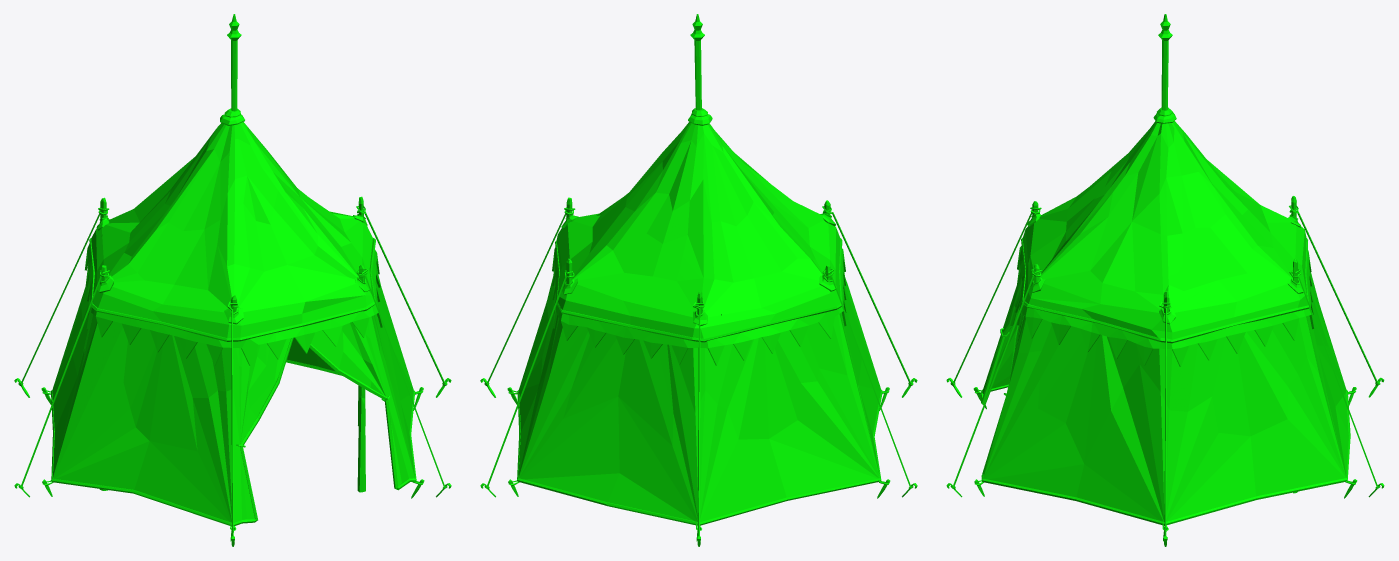
The model's file is SM_Market_Stall_A_Round_Stripes.fbx.
3 views of the same model, side by side, from view 1: azimuth 30°, elevation 25°; view 2: azimuth 150°, elevation 25°; view 3: azimuth 270°, elevation 25° (orthographic).
Parts seen in each view (by area): view 1: market-stall-a-round-stripes; view 2: market-stall-a-round-stripes; view 3: market-stall-a-round-stripes.
Part boxes in pixels (x1,y1,x2,y2): market-stall-a-round-stripes: [14, 14, 451, 546]; market-stall-a-round-stripes: [480, 14, 917, 546]; market-stall-a-round-stripes: [946, 14, 1384, 546].
Size of the model in its own units: 8.07 by 7.9 by 7.02.
